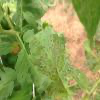Tomato Septoria leaf spot: (29, 32, 64, 78), (67, 61, 88, 91), (42, 81, 78, 97)
